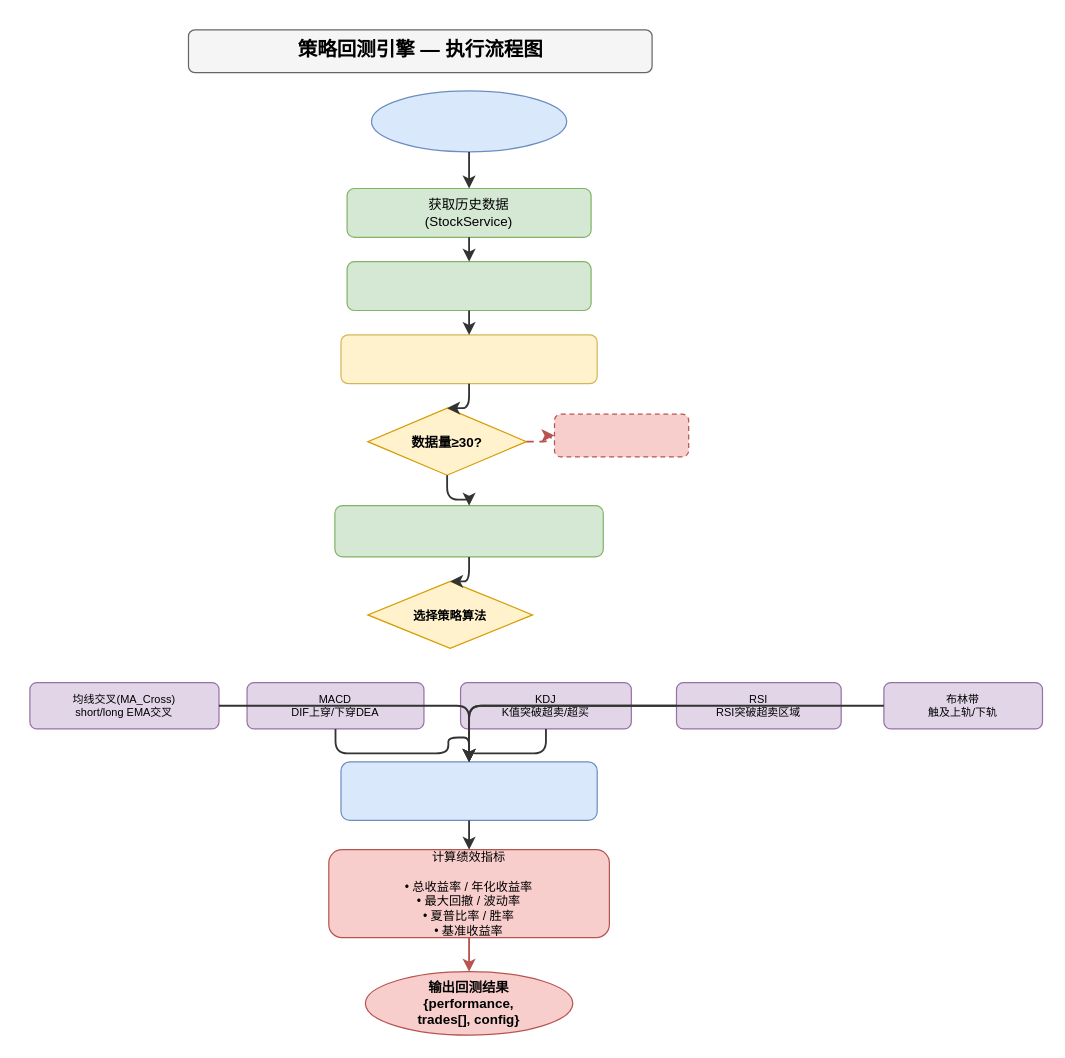
Some shapes in this 1065 by 1058 pixel diagram are drawn without their labels. The shapes that lost their labels are listed below. From the top down, each one's centre as x and y in pixels, then its label:
(468,121): 开始 输入参数: ts_code, strategy_type, 日期范围,
(468,285): 获取技术因子数据 (StockService)
(468,359): 合并日线+因子数据 (pd.merge on trade_date)
(621,435): ✗ 数据不足 返回错误
(468,530): 计算交易信号 _calculate_signals(df) 根据strategy_type:
(468,790): 模拟交易执行 _execute_trades(df) 按手买入/卖出 扣手续费
